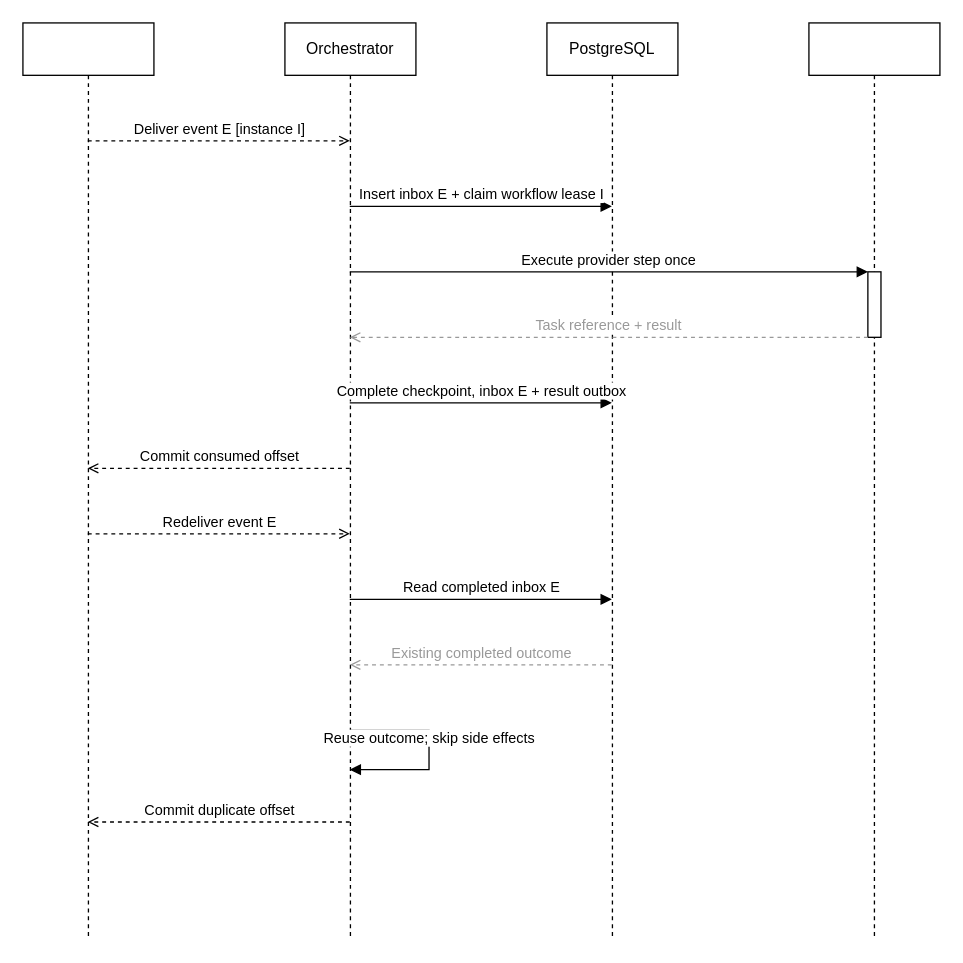
This 963x963 diagram has some shape labels left out. The shapes that lost their labels are listed below. From the top down, each one's box as (x1, y1, x2, y2) in pixels, then its label:
(22, 22, 154, 940): Kafka
(808, 22, 940, 940): Proxmox Provider
